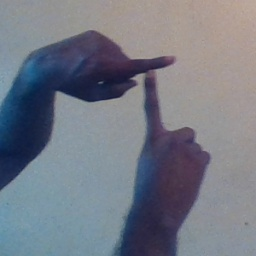T: (92, 33, 209, 153)
